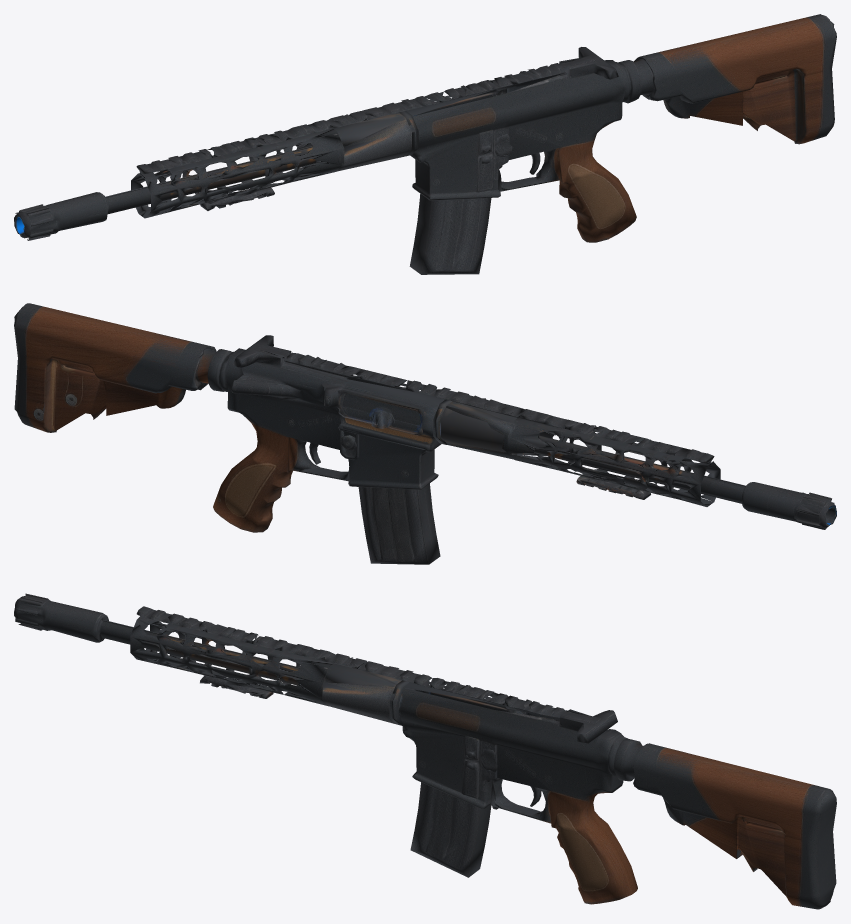
File: weapon-carbine.glb
3 renders of one model, top to bottom at view 1: azimuth 30°, elevation 25°; view 2: azimuth 150°, elevation 25°; view 3: azimuth 330°, elevation 25°, orthographic.
Size of the model in its own units: 0.9556 by 0.2075 by 0.0713.
1 material, 1 textured.
